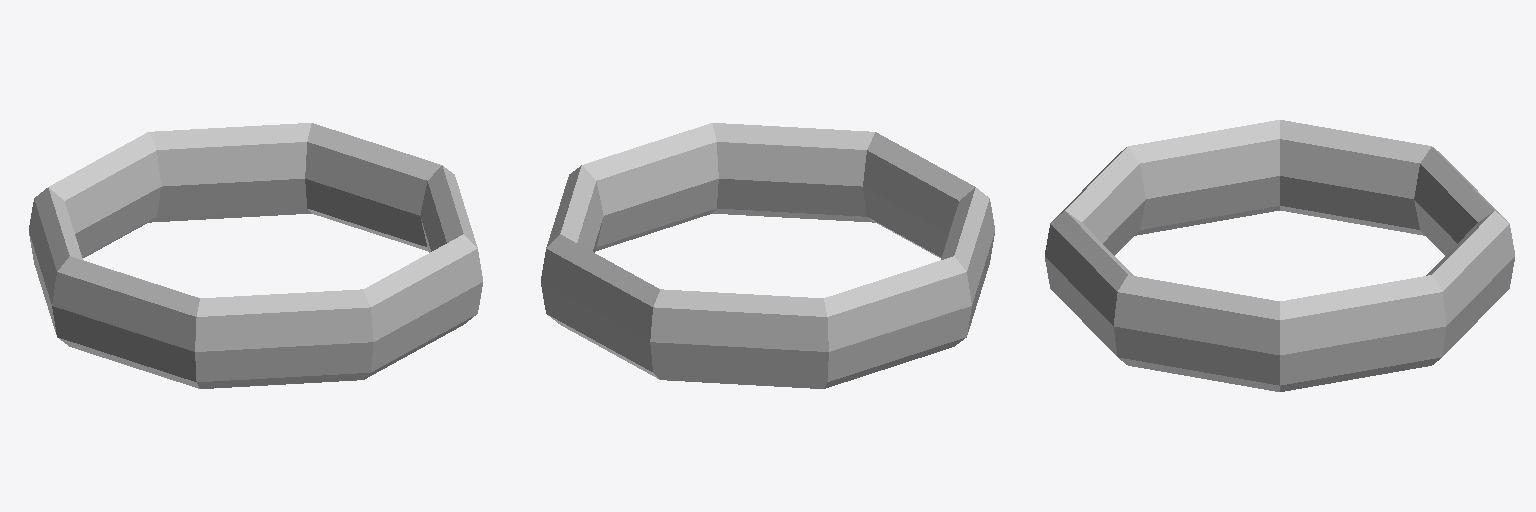
File: octahedron_smoothed_40.obj
3 renders of one model, left to right at view 1: azimuth 30°, elevation 25°; view 2: azimuth 150°, elevation 25°; view 3: azimuth 270°, elevation 25°, orthographic.
Size of the model in its own units: 2.99 by 0.6353 by 2.99.